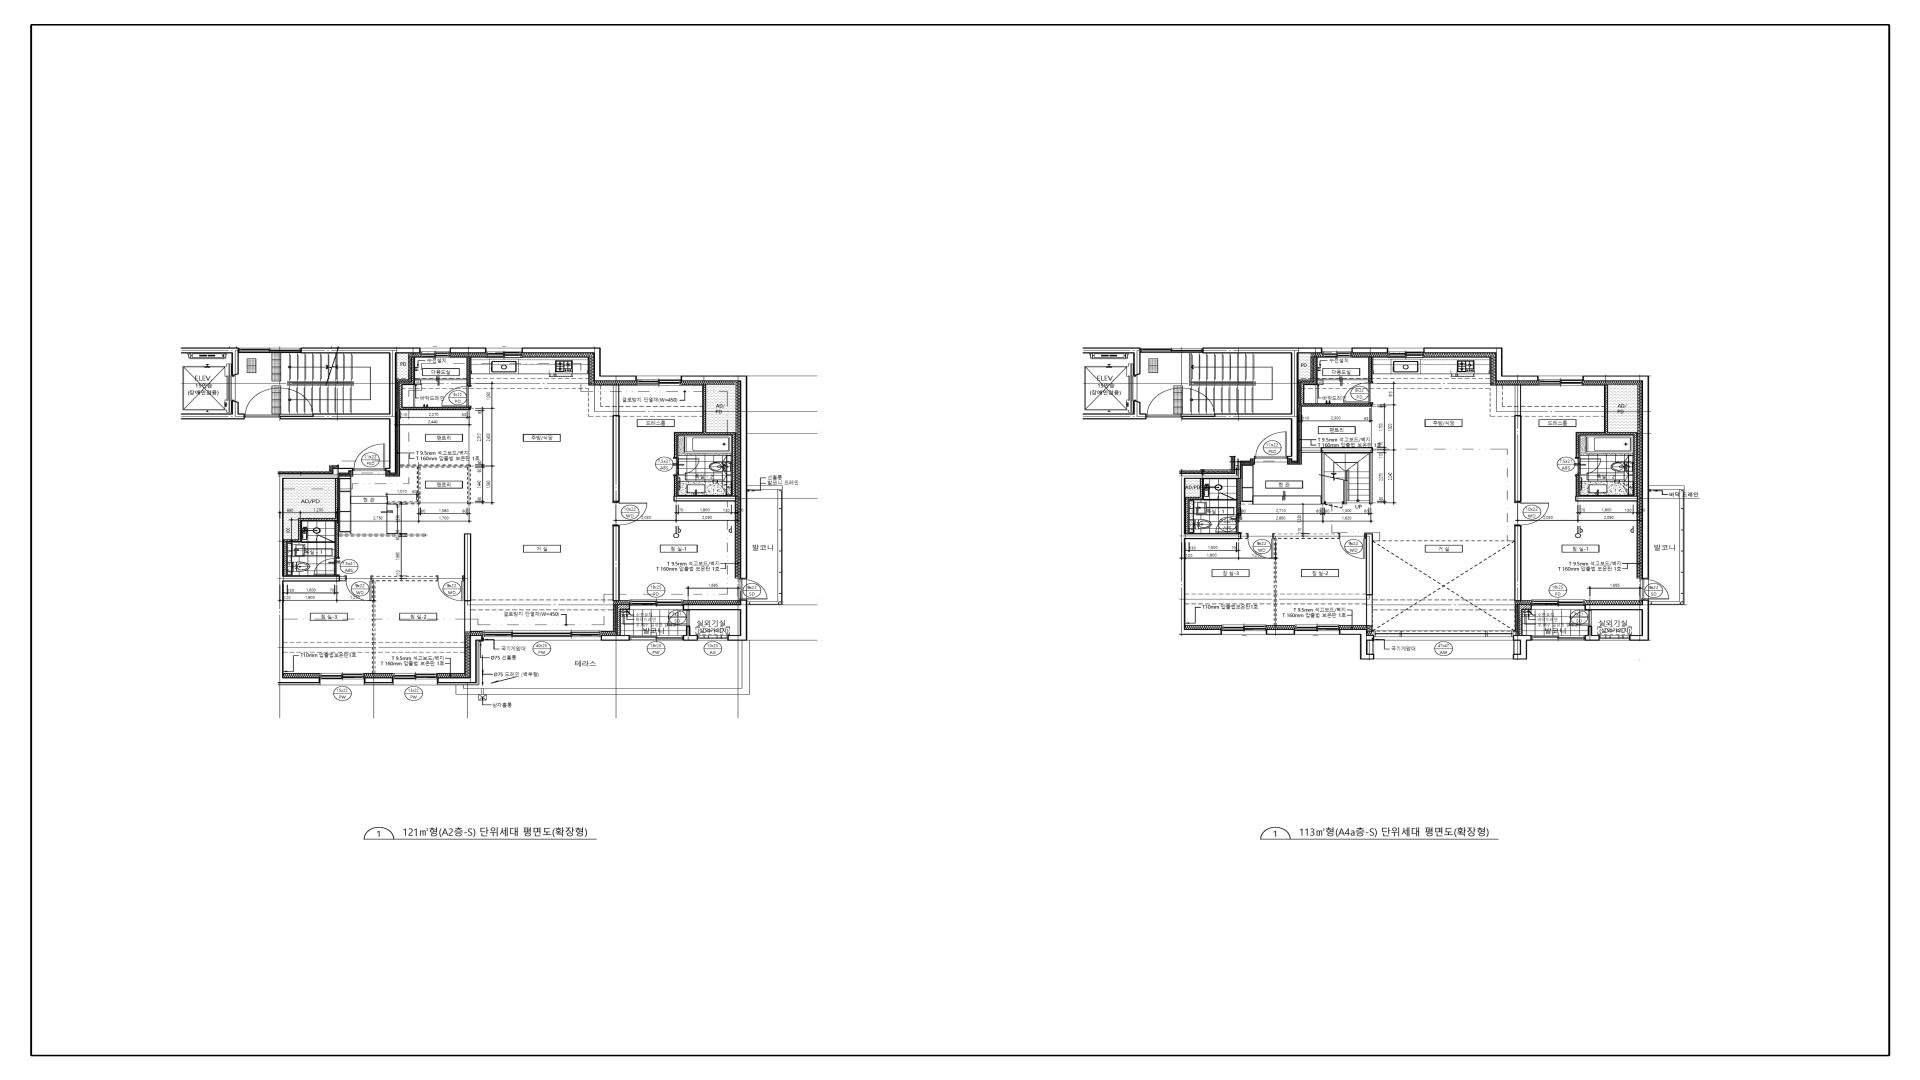door: (1146, 388, 1182, 418), (245, 388, 280, 418), (353, 443, 385, 472), (1255, 431, 1287, 459), (1514, 502, 1549, 526), (613, 502, 649, 526), (1247, 533, 1274, 559), (1338, 534, 1366, 559), (436, 576, 464, 601), (345, 576, 372, 601), (442, 385, 471, 407), (1344, 382, 1373, 404), (1642, 579, 1669, 600), (740, 579, 767, 600), (1215, 514, 1242, 533), (313, 558, 340, 576), (1576, 458, 1602, 476), (674, 458, 700, 476), (1568, 611, 1592, 626), (667, 611, 690, 626), (1217, 492, 1236, 501), (316, 534, 335, 543), (1324, 501, 1344, 509)
wall: (1582, 376, 1684, 641), (682, 376, 783, 641), (280, 347, 421, 473), (1182, 347, 1321, 462), (280, 468, 353, 683), (284, 479, 426, 576), (1182, 456, 1255, 636), (1576, 385, 1638, 501), (674, 385, 736, 501), (372, 576, 436, 674), (1274, 534, 1338, 626), (1300, 447, 1373, 505), (398, 356, 471, 410), (1424, 348, 1539, 381), (522, 348, 637, 381), (1300, 356, 1373, 406), (388, 464, 471, 505), (438, 636, 483, 683), (1185, 479, 1218, 534), (1083, 348, 1141, 377), (181, 348, 239, 376), (1083, 400, 1146, 419), (181, 401, 245, 419), (1340, 629, 1374, 659), (1514, 385, 1522, 502), (613, 385, 620, 502), (464, 534, 471, 632), (1366, 534, 1373, 626), (612, 526, 620, 601), (1514, 526, 1522, 601), (1513, 636, 1532, 659), (1519, 604, 1531, 636), (617, 604, 629, 636), (1585, 626, 1600, 641), (683, 626, 698, 641), (1236, 479, 1241, 516), (1352, 348, 1389, 353), (450, 348, 487, 353), (1266, 629, 1295, 636), (601, 636, 630, 641), (365, 678, 393, 683), (467, 356, 471, 385), (1369, 356, 1373, 382), (1344, 480, 1346, 505), (1241, 534, 1247, 539), (340, 576, 345, 582)
window: (1374, 630, 1514, 641), (483, 630, 601, 641), (1531, 600, 1585, 611), (629, 600, 683, 611), (1221, 625, 1267, 636), (1295, 625, 1340, 636), (637, 376, 682, 386), (393, 673, 438, 683), (1539, 376, 1582, 386), (319, 674, 365, 683), (1141, 347, 1203, 353), (239, 347, 301, 353), (1389, 348, 1424, 359), (487, 348, 522, 359), (1321, 348, 1352, 357), (1532, 636, 1585, 641), (630, 636, 683, 641), (421, 348, 450, 357), (698, 636, 728, 641), (1600, 636, 1630, 641)
